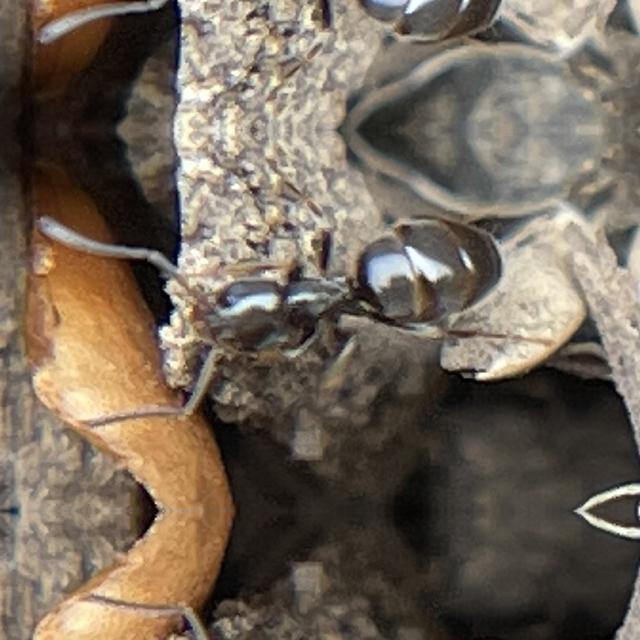Tapinoma: (120, 188, 542, 390), (118, 0, 541, 68)
